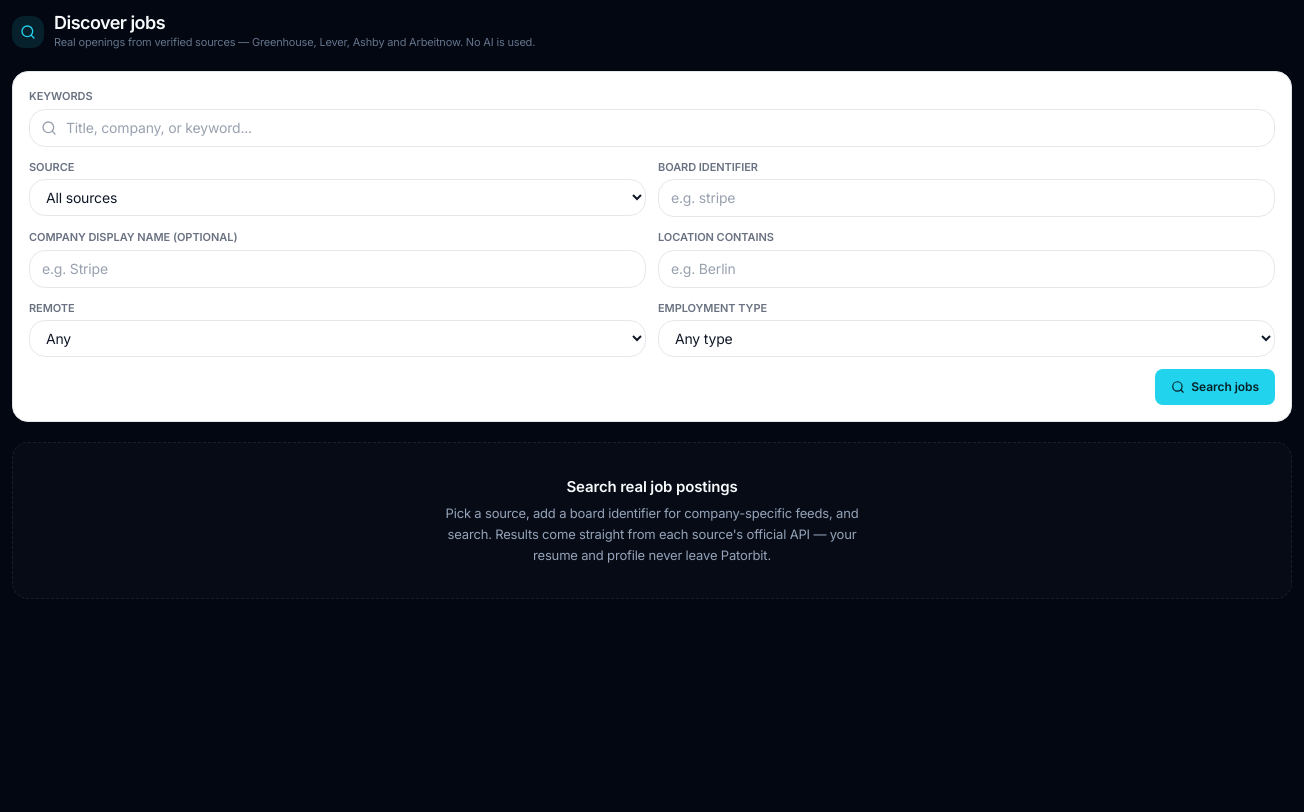
JobDiscoveryPanel › surfaces partial provider failures without hiding results
Click the button "Search jobs" at (1215, 387), box [1155,369,1275,405]
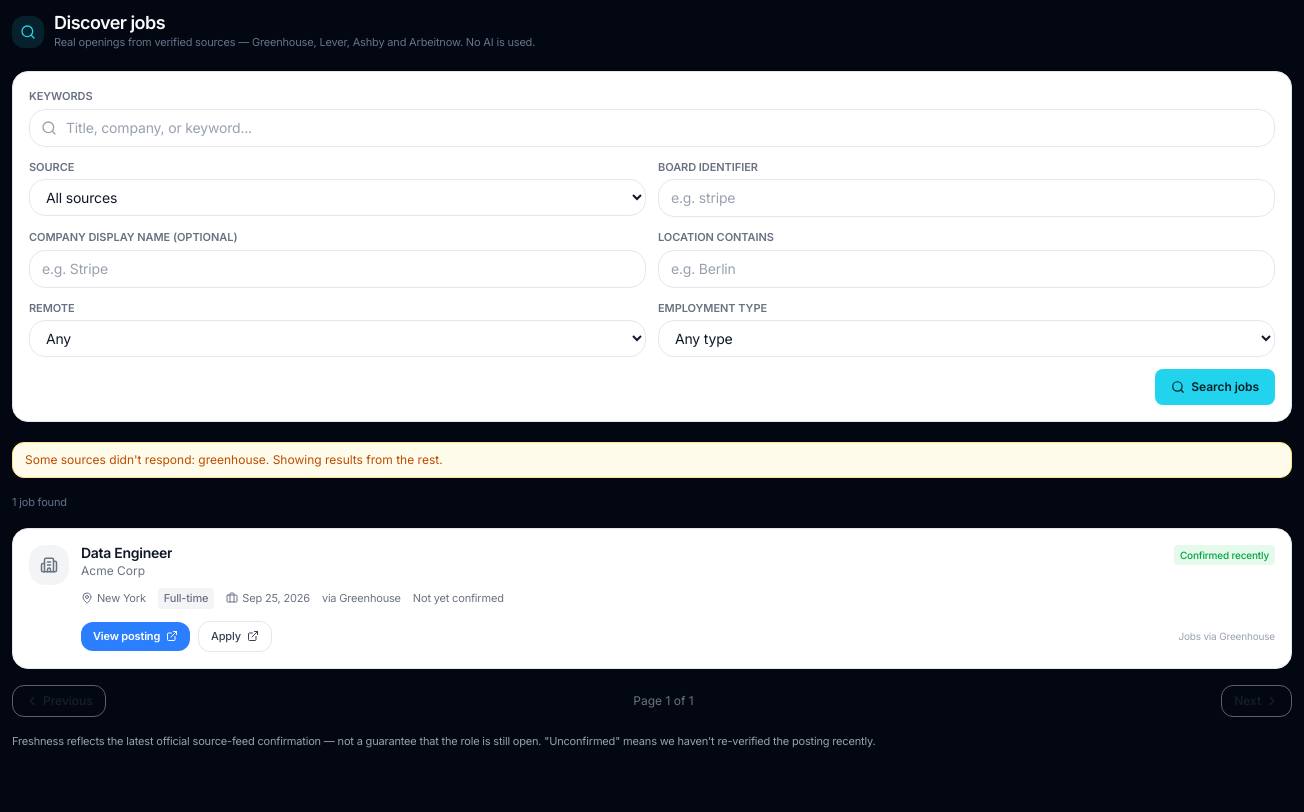
Check: the text "Some sources didn't respond: greenhouse" is shown, box [12,442,1292,478]
Check: the text "Data Engineer" is shown, box [81,545,172,562]
